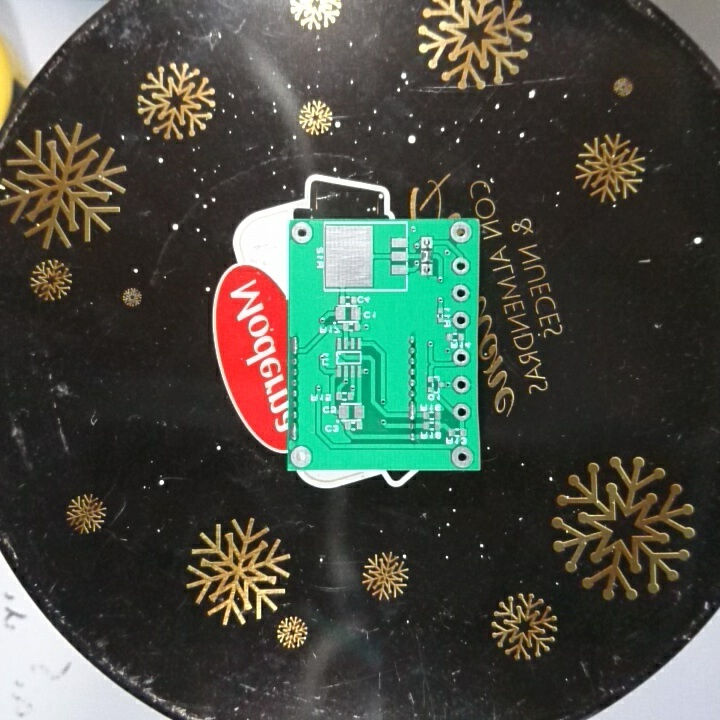F: (447, 219, 474, 246), (289, 220, 315, 248), (290, 444, 317, 469), (450, 443, 475, 468), (450, 306, 472, 332), (449, 346, 473, 369), (451, 372, 474, 396), (450, 282, 473, 305), (450, 400, 473, 423), (450, 255, 472, 276), (419, 234, 436, 252), (419, 260, 435, 278)
P: (289, 420, 301, 443), (290, 334, 301, 356), (407, 399, 417, 420)
